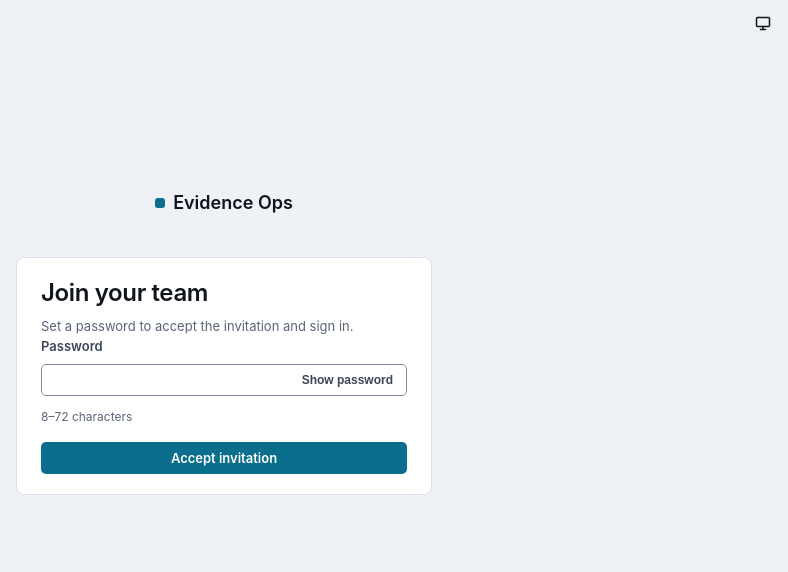
InvitePage › falls back to a connection message instead of a raw browser exception
Type "correct-horse-battery" into the password field labelled "Password" at (224, 380), box [41,364,407,396]
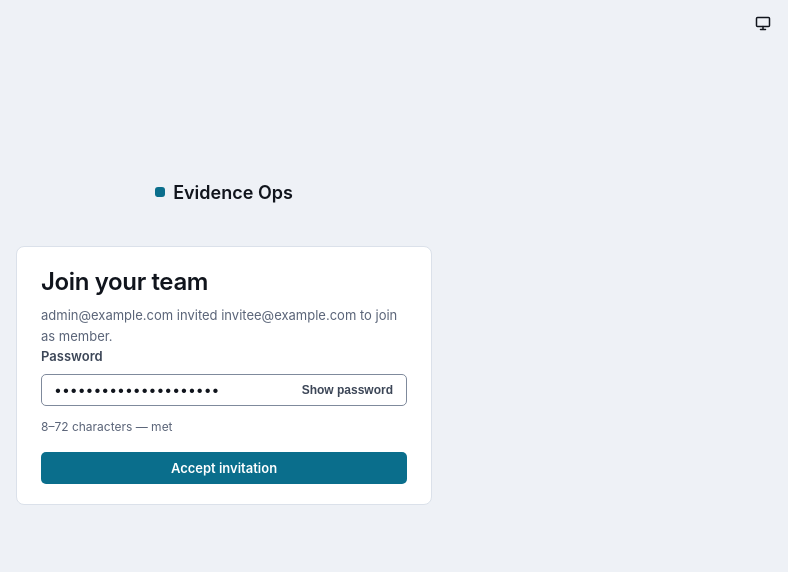
Click the button "Accept invitation" at (224, 468), box [41,452,407,484]
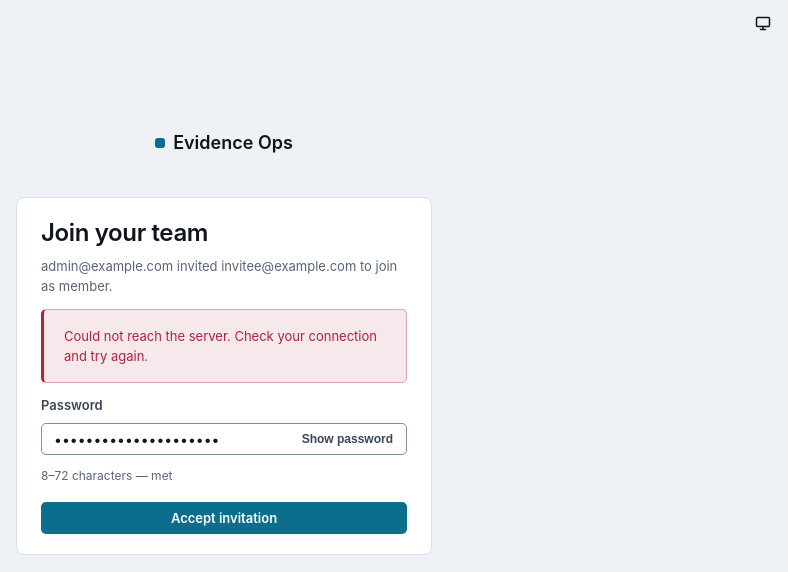
expect the message reads "Could not reach the server. Check your connection and try again.": met, box [64,328,377,364]
